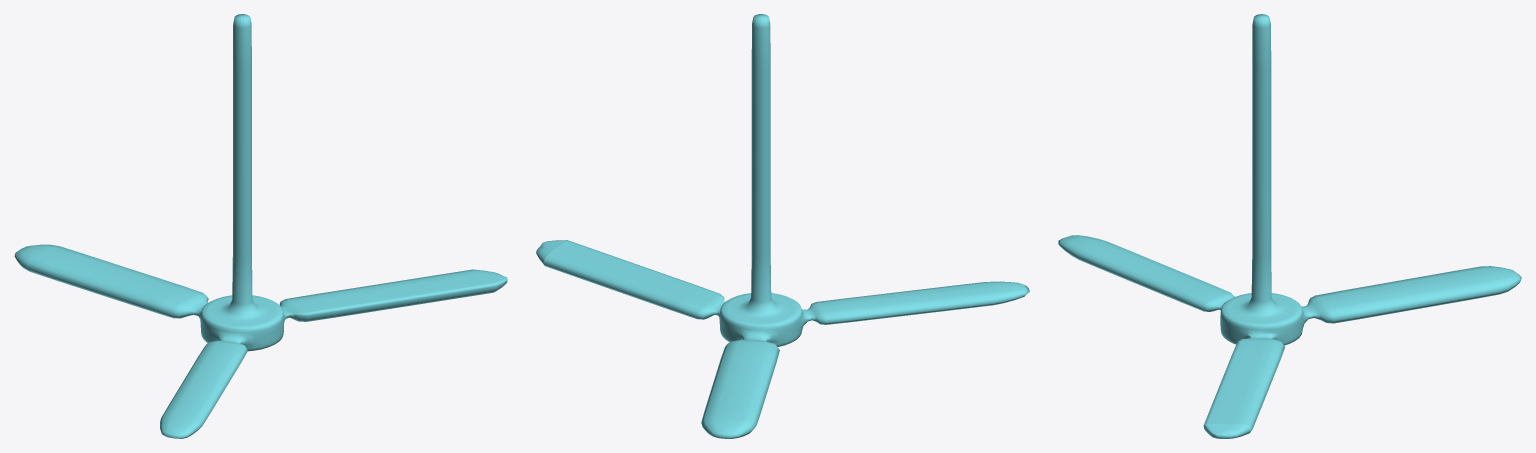
File: Ceiling_Fan.fbx
3 renders of one model, left to right at view 1: azimuth 30°, elevation 25°; view 2: azimuth 150°, elevation 25°; view 3: azimuth 270°, elevation 25°, orthographic.
Visible parts, largest first — view 1: Cylinder.009; view 2: Cylinder.009; view 3: Cylinder.009.
Part boxes in pixels (x1,y1,x2,y2): Cylinder.009: [14, 14, 507, 438]; Cylinder.009: [536, 14, 1029, 438]; Cylinder.009: [1058, 14, 1521, 438].
Bounding box in the file's own units: 316 × 231 × 307.
